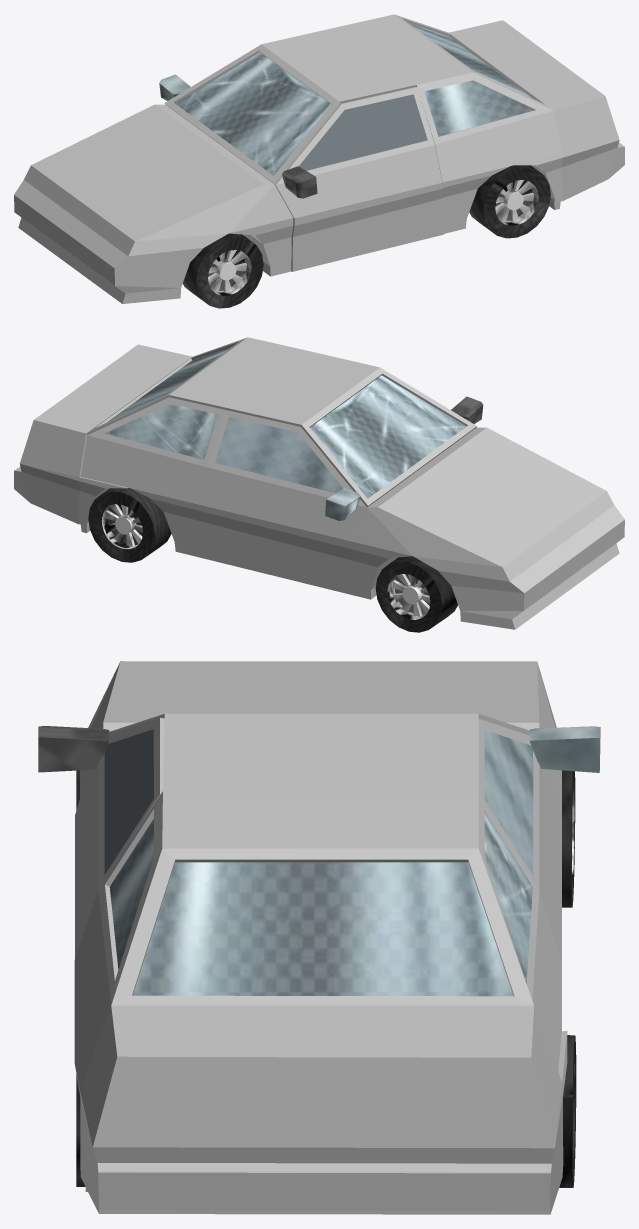
File: coche probar.fbx
3 renders of one model, top to bottom at view 1: azimuth 30°, elevation 25°; view 2: azimuth 150°, elevation 25°; view 3: azimuth 270°, elevation 25°, orthographic. The views are drawn at different scales.
Visible parts, largest first — view 1: Plane, Plane.001, Plane.002, Plane.003, Cylinder.002, Cylinder, Cube.003; view 2: Plane, Plane.002, Cylinder.001, Cylinder.003, Cube.003; view 3: Plane, Plane.002, Cube.003, Plane.001, Plane.003, Cylinder.001, Cylinder.003.
Boxes of the visible parts, bbox=[...] form: Plane: bbox=[14, 14, 624, 303]; Plane.001: bbox=[274, 87, 443, 271]; Plane.002: bbox=[175, 23, 534, 175]; Plane.003: bbox=[299, 94, 427, 170]; Cylinder.002: bbox=[469, 165, 550, 238]; Cylinder: bbox=[182, 233, 263, 308]; Cube.003: bbox=[159, 74, 317, 198]; Plane: bbox=[14, 337, 624, 629]; Plane.002: bbox=[105, 346, 466, 498]; Cylinder.001: bbox=[88, 488, 171, 562]; Cylinder.003: bbox=[375, 556, 457, 632]; Cube.003: bbox=[325, 396, 483, 520]; Plane: bbox=[74, 661, 567, 1214]; Plane.002: bbox=[109, 730, 533, 996]; Cube.003: bbox=[38, 726, 600, 772]; Plane.001: bbox=[75, 717, 164, 958]; Plane.003: bbox=[104, 729, 153, 874]; Cylinder.001: bbox=[559, 1035, 576, 1187]; Cylinder.003: bbox=[562, 770, 575, 907].
Bounding box in the file's own units: 685 × 204 × 331.
